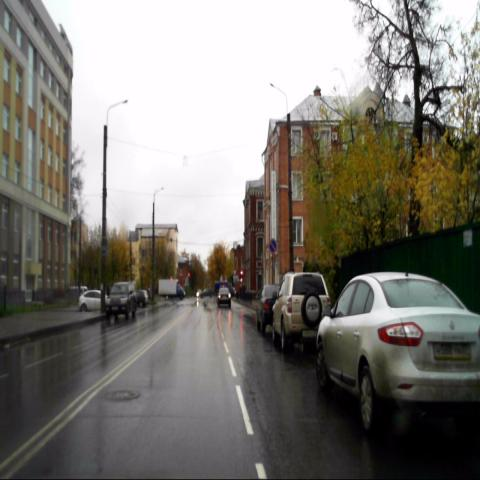3_28: (269, 238, 277, 253)
